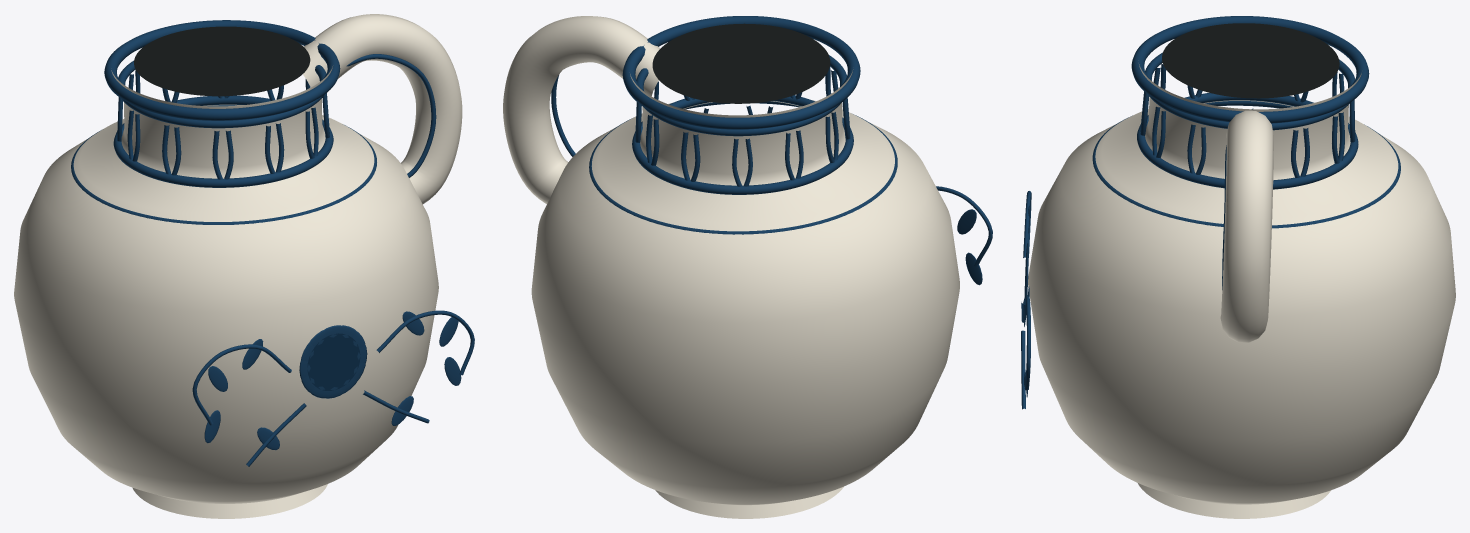
Rendered from porcelain-reference.glb.
The picture shows the model from 3 angles, left to right: view 1: azimuth 30°, elevation 25°; view 2: azimuth 150°, elevation 25°; view 3: azimuth 270°, elevation 25°; orthographic projection.
Parts seen in each view (by area): view 1: Lathed_body_inferred_from_front_profile, Porcelain_reference_single_image_reconstruction, Handle_from_visible_reference, Open_mouth, Foot_ring; view 2: Lathed_body_inferred_from_front_profile, Porcelain_reference_single_image_reconstruction, Handle_from_visible_reference, Open_mouth, Foot_ring; view 3: Lathed_body_inferred_from_front_profile, Porcelain_reference_single_image_reconstruction, Handle_from_visible_reference, Open_mouth, Foot_ring.
Boxes of the visible parts, <box> form: Lathed_body_inferred_from_front_profile: <box>14,65,438,503</box>; Porcelain_reference_single_image_reconstruction: <box>71,20,474,466</box>; Handle_from_visible_reference: <box>303,14,462,204</box>; Open_mouth: <box>134,26,310,96</box>; Foot_ring: <box>132,484,327,518</box>; Lathed_body_inferred_from_front_profile: <box>531,69,959,505</box>; Porcelain_reference_single_image_reconstruction: <box>551,16,992,285</box>; Handle_from_visible_reference: <box>503,16,660,203</box>; Open_mouth: <box>652,23,830,103</box>; Foot_ring: <box>655,486,843,518</box>; Lathed_body_inferred_from_front_profile: <box>1028,64,1455,504</box>; Porcelain_reference_single_image_reconstruction: <box>1021,16,1400,409</box>; Handle_from_visible_reference: <box>1220,110,1273,342</box>; Open_mouth: <box>1162,23,1339,98</box>; Foot_ring: <box>1138,483,1330,518</box>.
Size of the model in its own units: 2.69 by 2.61 by 2.4.
